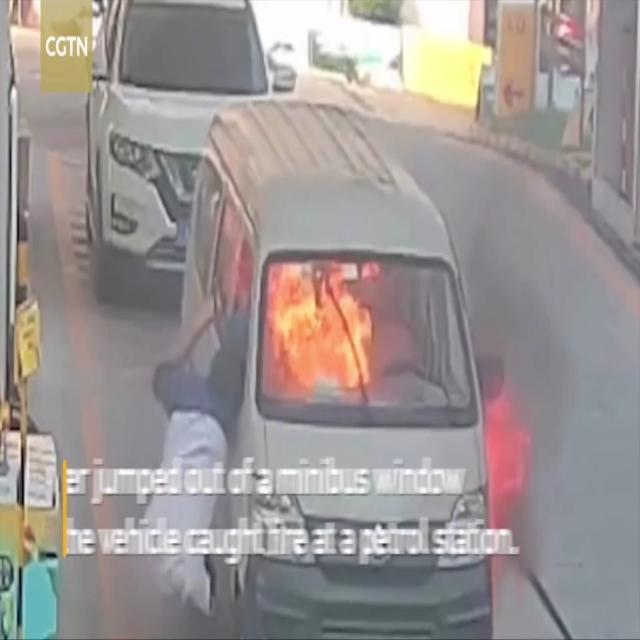fire: (264, 264, 386, 400), (482, 384, 539, 530)
